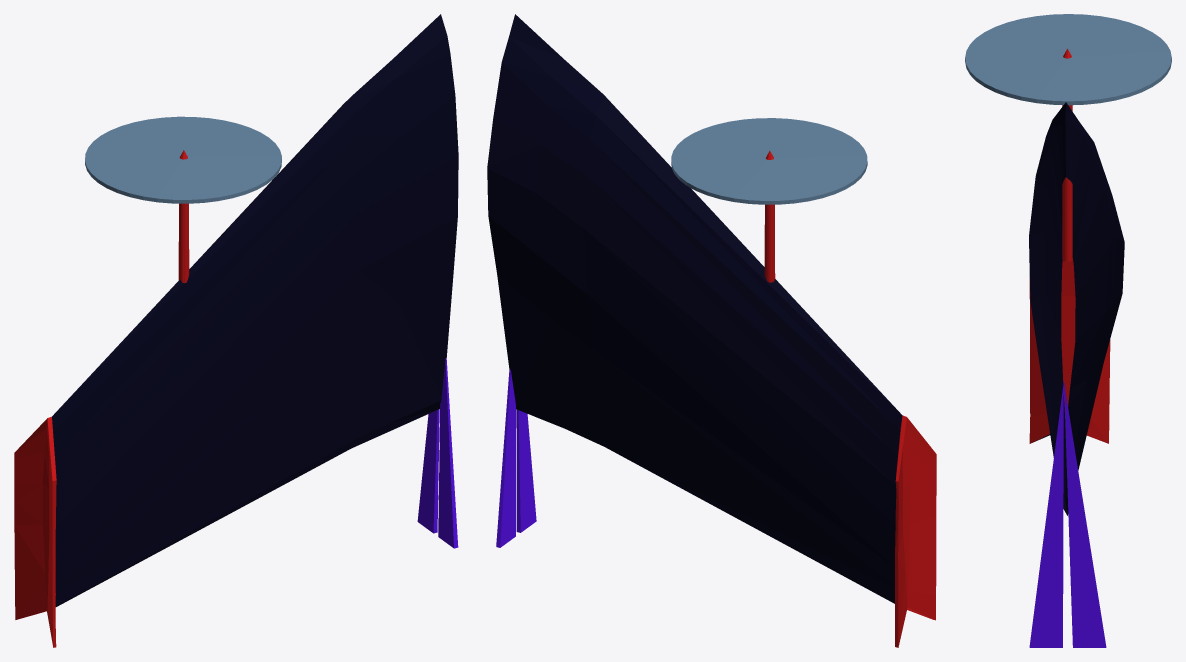
The model's file is tailsitter3.obj.
3 renders of one model, left to right at view 1: azimuth 30°, elevation 25°; view 2: azimuth 150°, elevation 25°; view 3: azimuth 270°, elevation 25°, orthographic. The views are drawn at different scales.
Visible parts, largest first — view 1: vtol_refactor; view 2: vtol_refactor; view 3: vtol_refactor.
Part boxes in pixels (x1,y1,x2,y2): vtol_refactor: [14, 14, 458, 647]; vtol_refactor: [487, 14, 936, 647]; vtol_refactor: [965, 14, 1171, 647].
Bounding box in the file's own units: 0.526 × 0.6474 × 0.2215.
